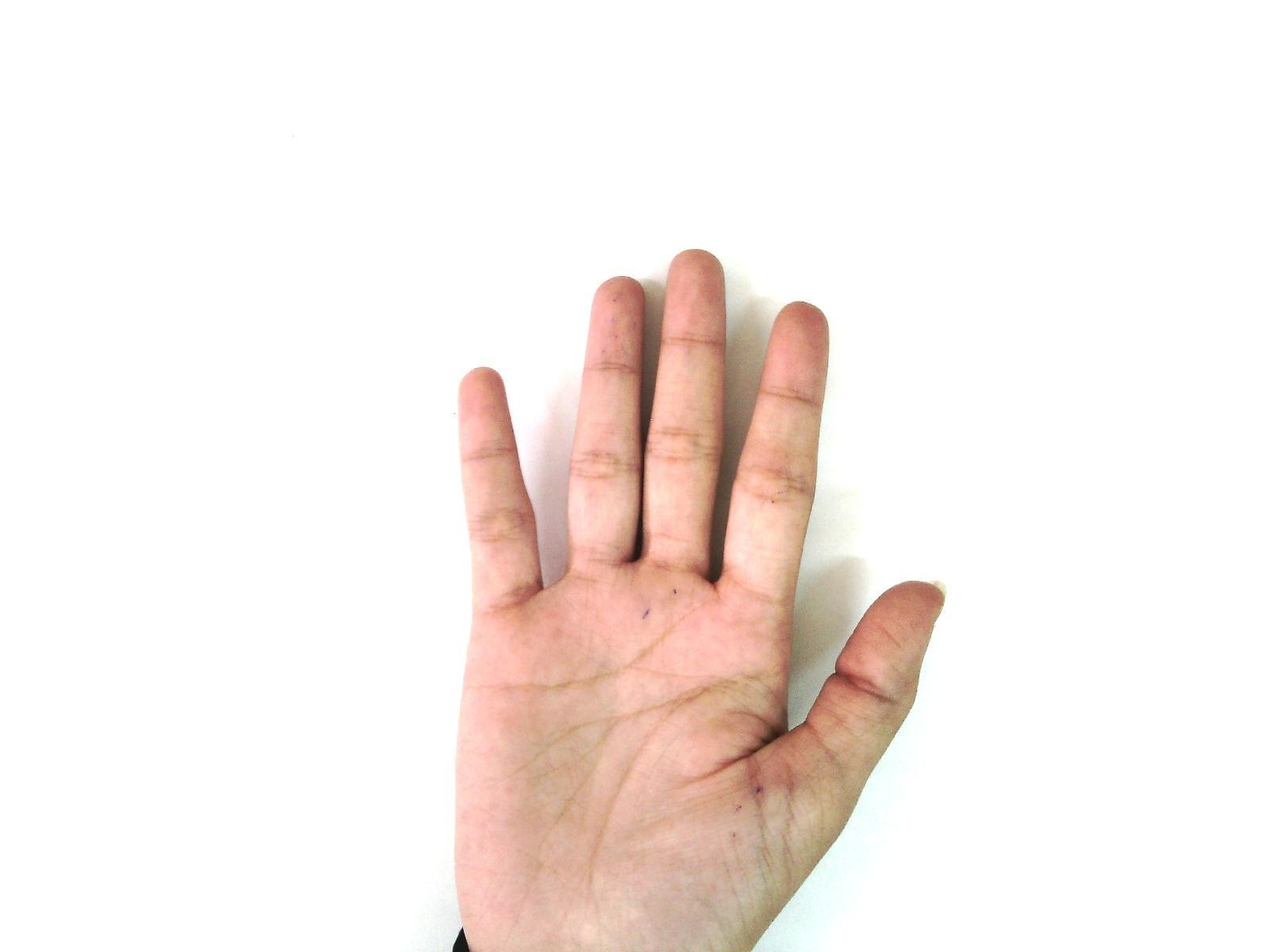open_palm: (448, 248, 948, 951)
